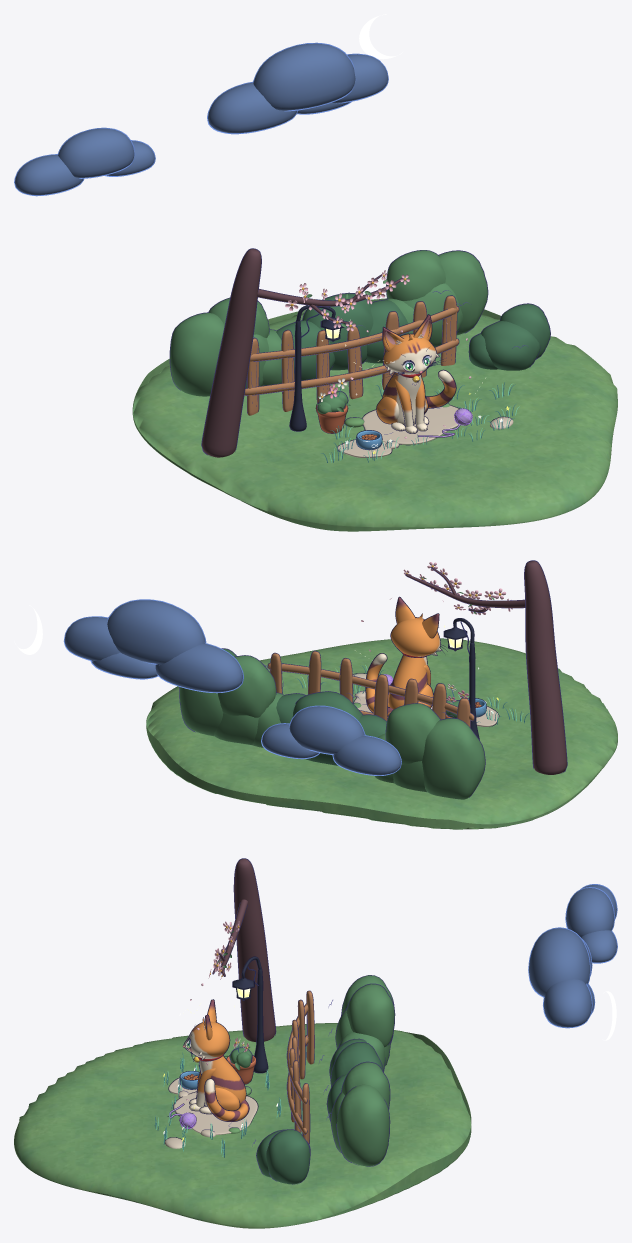
Rendered from mikan-jardin-noche.glb.
The picture shows the model from 3 angles, top to bottom: view 1: azimuth 30°, elevation 25°; view 2: azimuth 150°, elevation 25°; view 3: azimuth 270°, elevation 25°; orthographic projection. The views are drawn at different scales.
Visible parts, largest first — view 1: Exp_Env_MeadowIsland, Exp_Env_Cloud_Right, Exp_Env_SakuraTrunk, Exp_Env_Bush_Right, Exp_Env_Cloud_Left, Exp_Env_Bush_Left, Exp_Env_Bush_FarRight, Exp_Env_Bush_MidLow, Exp_Env_SteppingStone_Main, Exp_Env_FenceRail_1, Exp_Env_FenceRail_0, Exp_Cat_Head (+8 smaller); view 2: Exp_Env_MeadowIsland, Exp_Env_Cloud_Right, Exp_Env_Bush_Left, Exp_Env_SakuraTrunk, Exp_Env_Cloud_Left, Exp_Env_Bush_Right, Exp_Env_Bush_MidLow, Exp_Cat_Head, Exp_Env_FenceRail_1, Exp_Cat_Body, Exp_Env_SakuraBranch_Main, Exp_Cat_Tail (+6 smaller); view 3: Exp_Env_MeadowIsland, Exp_Env_Cloud_Right, Exp_Env_Bush_Right, Exp_Env_SakuraTrunk, Exp_Env_Bush_Left, Exp_Env_Cloud_Left, Exp_Env_Bush_FarRight, Exp_Env_Bush_MidLow, Exp_Env_SteppingStone_Main, Exp_Cat_Head, Exp_Cat_Body, Exp_Env_LampPost (+5 smaller).
Boxes of the visible parts, bbox=[...] form: Exp_Env_MeadowIsland: bbox=[132, 298, 617, 531]; Exp_Env_Cloud_Right: bbox=[207, 42, 388, 134]; Exp_Env_SakuraTrunk: bbox=[201, 248, 261, 457]; Exp_Env_Bush_Right: bbox=[385, 250, 488, 346]; Exp_Env_Cloud_Left: bbox=[14, 127, 155, 196]; Exp_Env_Bush_Left: bbox=[169, 297, 281, 396]; Exp_Env_Bush_FarRight: bbox=[468, 303, 550, 370]; Exp_Env_Bush_MidLow: bbox=[276, 292, 408, 380]; Exp_Env_SteppingStone_Main: bbox=[362, 405, 459, 445]; Exp_Env_FenceRail_1: bbox=[250, 306, 459, 361]; Exp_Env_FenceRail_0: bbox=[244, 338, 459, 395]; Exp_Cat_Head: bbox=[383, 333, 436, 374]; Exp_Env_MeadowIsland: bbox=[146, 638, 617, 829]; Exp_Env_Cloud_Right: bbox=[63, 599, 243, 693]; Exp_Env_Bush_Left: bbox=[374, 703, 485, 799]; Exp_Env_SakuraTrunk: bbox=[524, 560, 567, 774]; Exp_Env_Cloud_Left: bbox=[261, 705, 401, 775]; Exp_Env_Bush_Right: bbox=[179, 655, 283, 747]; Exp_Env_Bush_MidLow: bbox=[276, 691, 386, 765]; Exp_Cat_Head: bbox=[390, 617, 440, 656]; Exp_Env_FenceRail_1: bbox=[267, 663, 474, 721]; Exp_Cat_Body: bbox=[389, 655, 427, 709]; Exp_Env_SakuraBranch_Main: bbox=[405, 574, 525, 608]; Exp_Cat_Tail: bbox=[365, 653, 392, 715]; Exp_Env_MeadowIsland: bbox=[14, 1023, 471, 1228]; Exp_Env_Cloud_Right: bbox=[528, 927, 595, 1028]; Exp_Env_Bush_Right: bbox=[330, 1061, 390, 1166]; Exp_Env_SakuraTrunk: bbox=[233, 858, 276, 1041]; Exp_Env_Bush_Left: bbox=[335, 975, 395, 1070]; Exp_Env_Cloud_Left: bbox=[565, 884, 617, 963]; Exp_Env_Bush_FarRight: bbox=[256, 1129, 310, 1184]; Exp_Env_Bush_MidLow: bbox=[326, 1038, 383, 1121]; Exp_Env_SteppingStone_Main: bbox=[173, 1091, 258, 1134]; Exp_Cat_Head: bbox=[183, 1021, 230, 1058]; Exp_Cat_Body: bbox=[199, 1055, 246, 1106]; Exp_Env_LampPost: bbox=[254, 968, 268, 1073].
Bounding box in the file's own units: 3.9 × 2.19 × 5.13.
Materials: 59 (12 with a texture image).
